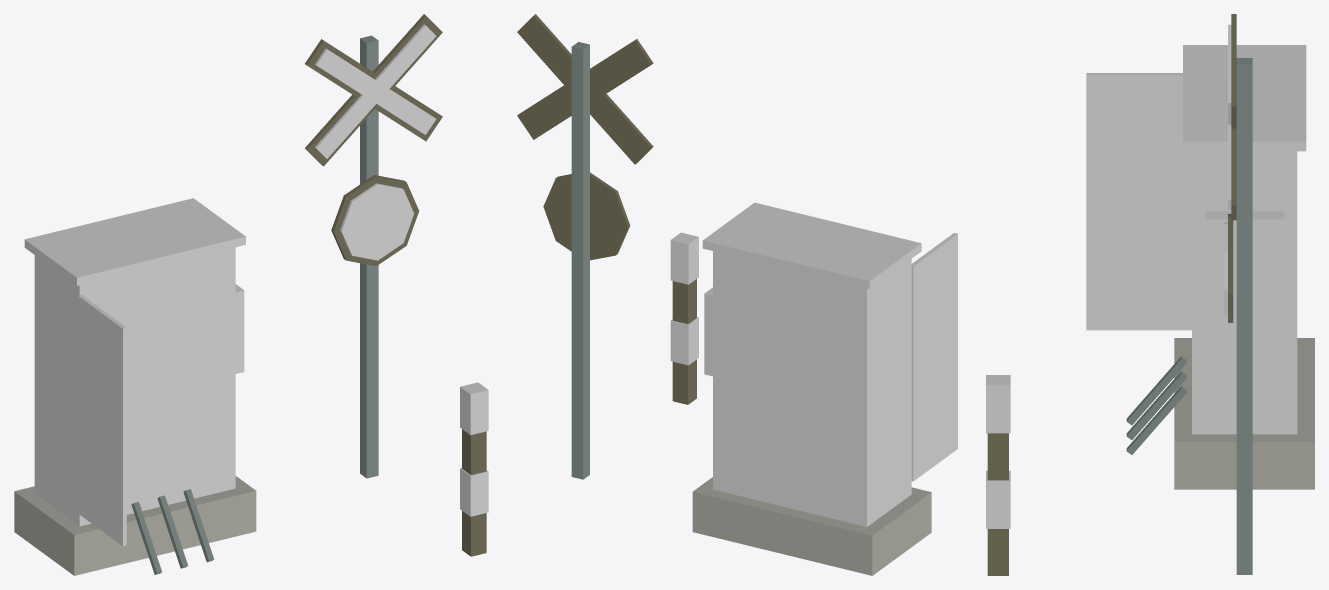
File: SM_ArmarioAdif_v2_Abierto_LOD0.fbx
3 views of the same model, side by side, from view 1: azimuth 30°, elevation 25°; view 2: azimuth 150°, elevation 25°; view 3: azimuth 270°, elevation 25° (orthographic). The views are drawn at different scales.
Parts seen in each view (by area): view 1: SM_sagunto_vivo_v12_LOD0; view 2: SM_sagunto_vivo_v12_LOD0; view 3: SM_sagunto_vivo_v12_LOD0.
Boxes of the visible parts, x1,y1,x2,y2 form: SM_sagunto_vivo_v12_LOD0: (14, 14, 488, 575); SM_sagunto_vivo_v12_LOD0: (517, 14, 957, 575); SM_sagunto_vivo_v12_LOD0: (986, 14, 1314, 575).
Size of the model in its own units: 3.02 by 3.32 by 1.87.
